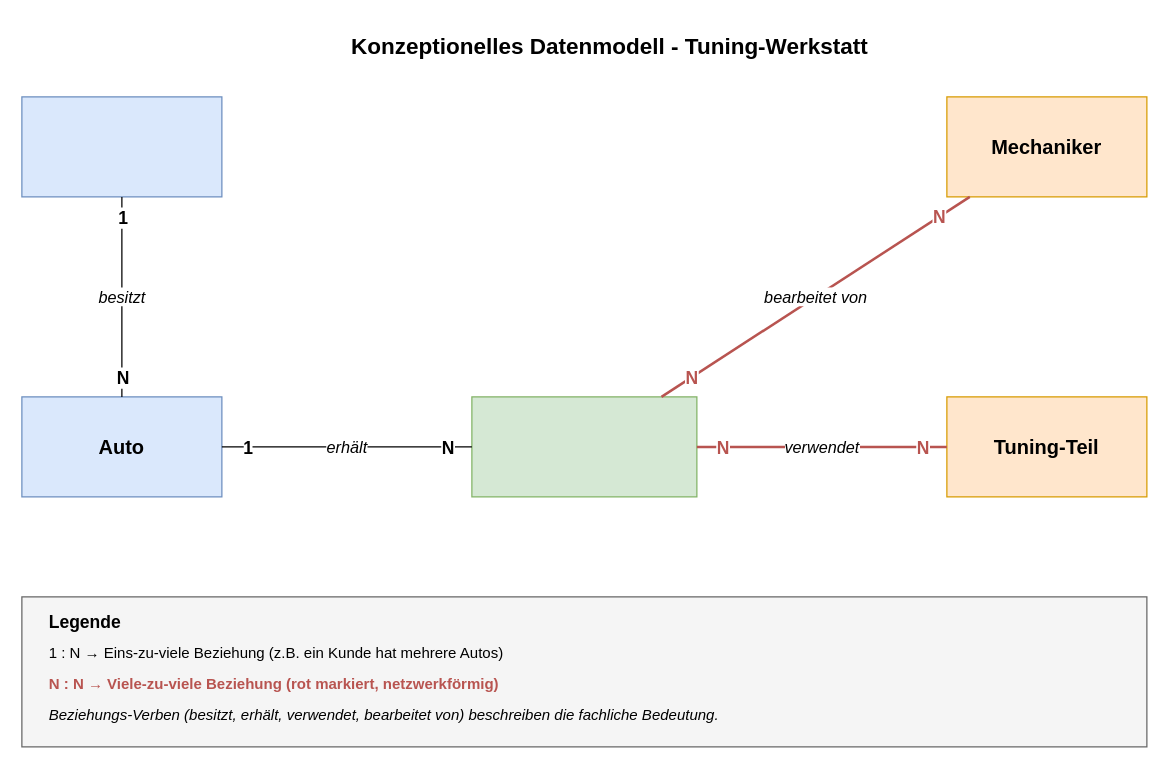
Some shapes in this 1169 by 769 pixel diagram are drawn without their labels. The box of each missing label's shape, as (x1, y1, x2, y2) in pixels:
Kunde: (21, 96, 222, 197)
Tuning-Auftrag: (471, 396, 697, 497)
